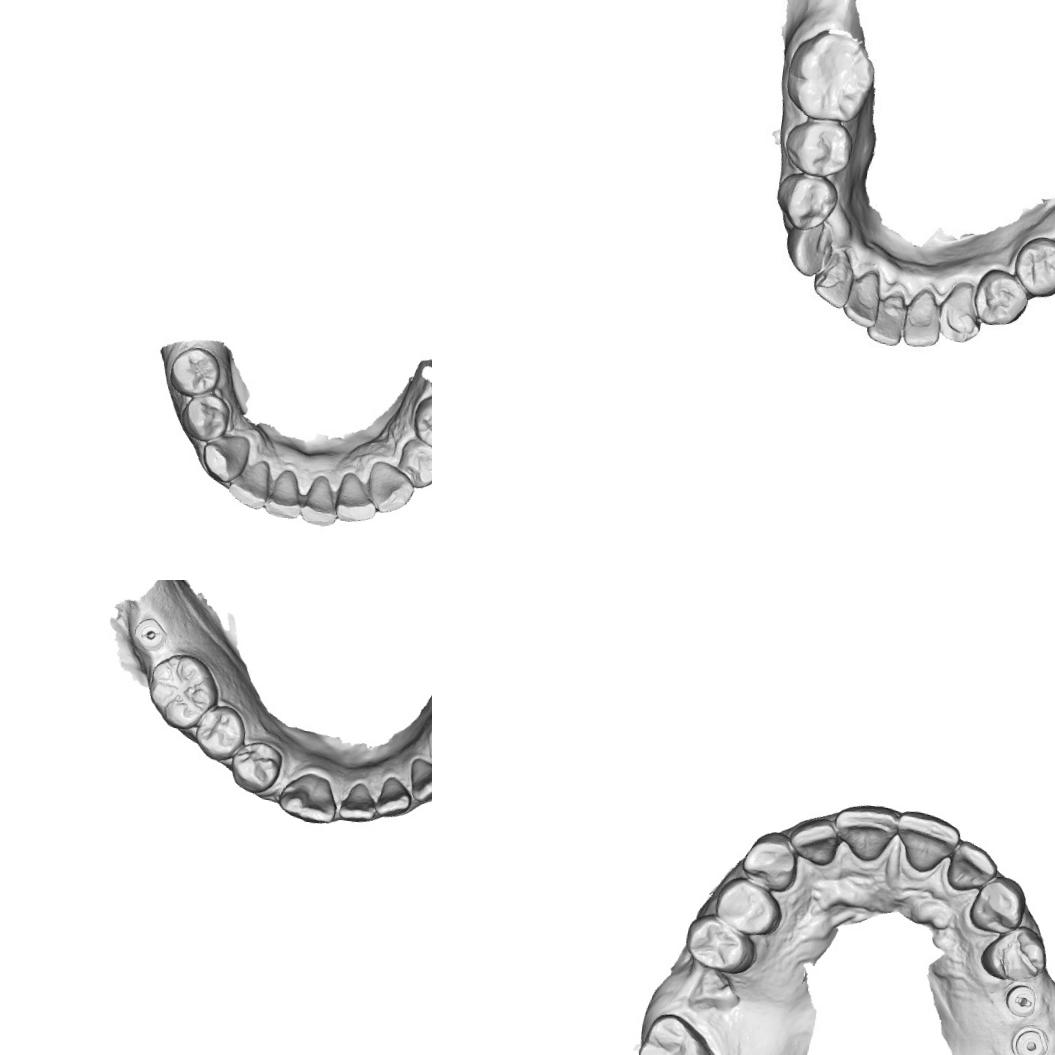canine: (965, 870, 1030, 938), (738, 828, 802, 894), (778, 213, 836, 284), (934, 278, 988, 346), (362, 457, 418, 518), (198, 428, 252, 487), (274, 768, 318, 821)
implant: (1003, 1022, 1052, 1055)
implant_minus: (1002, 980, 1042, 1020), (132, 614, 170, 654)
incisor: (889, 808, 964, 878), (828, 800, 900, 866), (944, 838, 1002, 897), (784, 812, 840, 870), (900, 291, 950, 352), (224, 454, 274, 512), (296, 470, 343, 529), (811, 252, 857, 311), (332, 470, 380, 526), (296, 774, 342, 830), (863, 290, 908, 346), (262, 464, 306, 521), (335, 778, 381, 827), (840, 276, 882, 328), (373, 774, 414, 821), (404, 756, 432, 806)
molar: (784, 24, 879, 127), (142, 648, 225, 735), (631, 1009, 723, 1055)
premolar: (680, 910, 760, 978), (976, 920, 1051, 990), (710, 872, 786, 940), (780, 115, 853, 182), (774, 165, 838, 234), (971, 266, 1031, 332), (225, 736, 287, 798), (190, 700, 250, 764), (164, 342, 224, 401), (176, 388, 234, 446), (1009, 232, 1055, 300), (394, 437, 432, 492), (408, 393, 432, 452)
